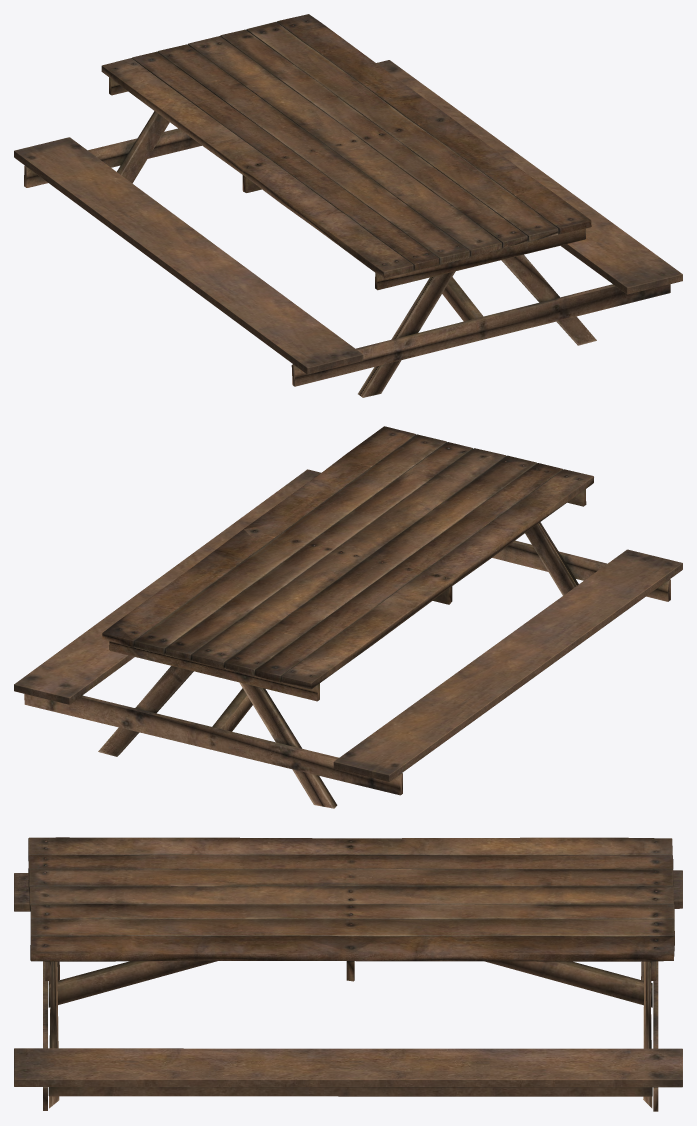
Rendered from ph_picnic.glb.
3 views of the same model, one above another, from view 1: azimuth 30°, elevation 25°; view 2: azimuth 150°, elevation 25°; view 3: azimuth 270°, elevation 25° (orthographic). The views are drawn at different scales.
Parts seen in each view (by area): view 1: wooden_picnic_table; view 2: wooden_picnic_table; view 3: wooden_picnic_table.
Boxes of the visible parts, left/top/right/bottom form: wooden_picnic_table: left=14, top=14, right=682, bottom=397; wooden_picnic_table: left=14, top=426, right=682, bottom=808; wooden_picnic_table: left=14, top=837, right=682, bottom=1111.
Size of the model in its own units: 2.24 by 0.7452 by 3.02.
Materials: 2 (2 with a texture image).
